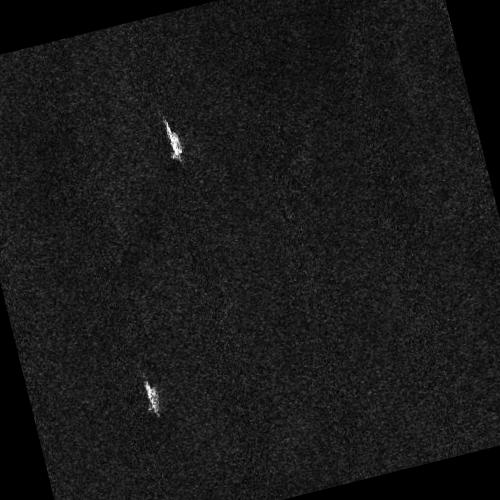ship: (163, 118, 183, 160), (142, 380, 161, 417)
